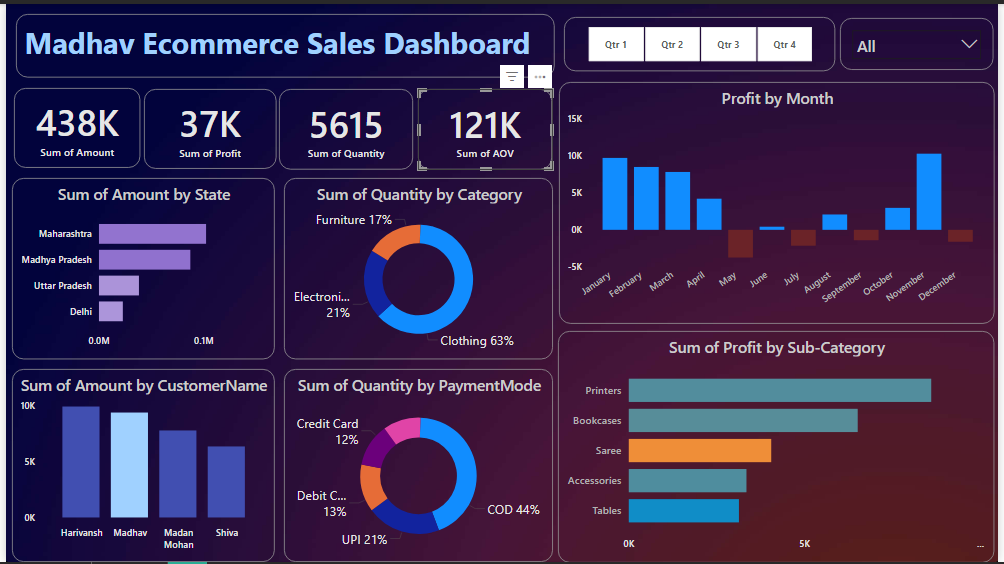

Layout of this report page (visuals, bound fields, positions):
{"tool":"powerbi","page":{"name":"Page 1","canvas":[1280,720],"ordinal":0},"visuals":[{"type":"textbox","box":[13.3,13.3,695,81.7],"z":0},{"type":"columnChart","title":"Profit by Month","fields":{"Category":["Orders.Order Date.Variation.Date Hierarchy.Month"],"Y":["Sum(Details.Profit)"]},"box":[713.3,100,561.7,311.7],"z":1000},{"type":"barChart","fields":{"Category":["Details.Sub-Category"],"Y":["Sum(Details.Profit)"]},"box":[712.9,421.4,562.9,298.6],"z":2000},{"type":"donutChart","fields":{"Category":["Details.Category"],"Y":["Sum(Details.Quantity)"]},"box":[358.6,224.3,347.1,234.3],"z":3000},{"type":"donutChart","fields":{"Y":["Sum(Details.Quantity)"],"Category":["Details.PaymentMode"]},"box":[358.6,471.4,347.1,248.6],"z":4000},{"type":"card","fields":{"Values":["Sum(Details.Amount)"]},"box":[10.1,108.4,163.4,102.7],"z":5000},{"type":"card","fields":{"Values":["Sum(Details.Quantity)"]},"box":[352.8,109.9,173.5,104.1],"z":6000},{"type":"card","fields":{"Values":["Sum(Details.Profit)"]},"box":[177.8,109.9,170.6,102.7],"z":7000},{"type":"barChart","fields":{"Category":["Orders.State"],"Y":["Sum(Details.Amount)"]},"box":[7.1,224.3,338.6,234.3],"z":8000},{"type":"columnChart","fields":{"Category":["Orders.CustomerName"],"Y":["Sum(Details.Amount)"]},"box":[7.1,471.4,338.6,248.6],"z":9000},{"type":"slicer","fields":{"Values":["Orders.Order Date.Variation.Date Hierarchy.Quarter"]},"box":[720,16.7,350,70],"z":10000},{"type":"slicer","fields":{"Values":["Orders.State"]},"box":[1076.7,18.3,198.3,66.7],"z":11000},{"type":"card","fields":{"Values":["Sum(Details.AOV)"]},"box":[532,109.9,173.5,104.1],"z":11001}]}

Visuals, with their boxes in screenshot pixels (x1, y1, x2, y2), scaled from the page's 1280x720 canvas onto the 1004x564 screenshot:
textbox: [10,10,556,74]
"Profit by Month" columnChart: [559,78,1000,322]
barChart - Details.Sub-Category x Sum(Details.Profit): [559,330,1001,563]
donutChart - Details.Category x Sum(Details.Quantity): [281,176,554,359]
donutChart - Sum(Details.Quantity) x Details.PaymentMode: [281,369,554,563]
card - Sum(Details.Amount): [8,85,136,165]
card - Sum(Details.Quantity): [277,86,413,168]
card - Sum(Details.Profit): [139,86,273,167]
barChart - Orders.State x Sum(Details.Amount): [6,176,271,359]
columnChart - Orders.CustomerName x Sum(Details.Amount): [6,369,271,563]
slicer - Orders.Order Date.Variation.Date Hierarchy.Quarter: [565,13,839,68]
slicer - Orders.State: [845,14,1000,67]
card - Sum(Details.AOV): [417,86,553,168]
